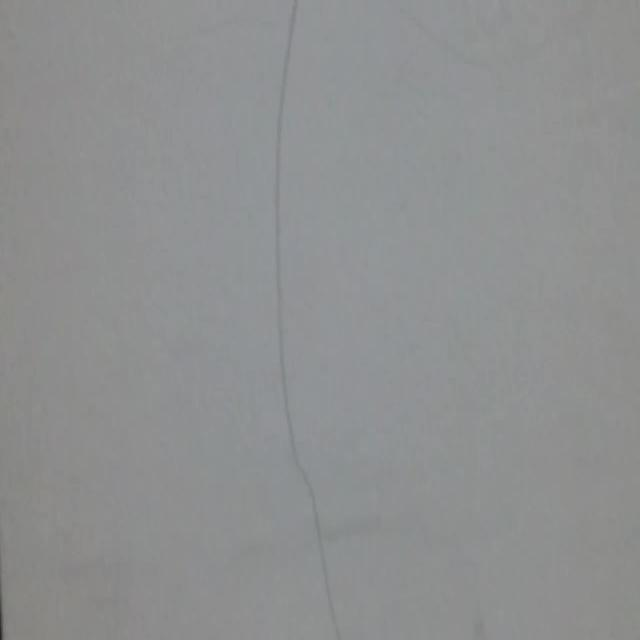Crack: (246, 3, 377, 640)
